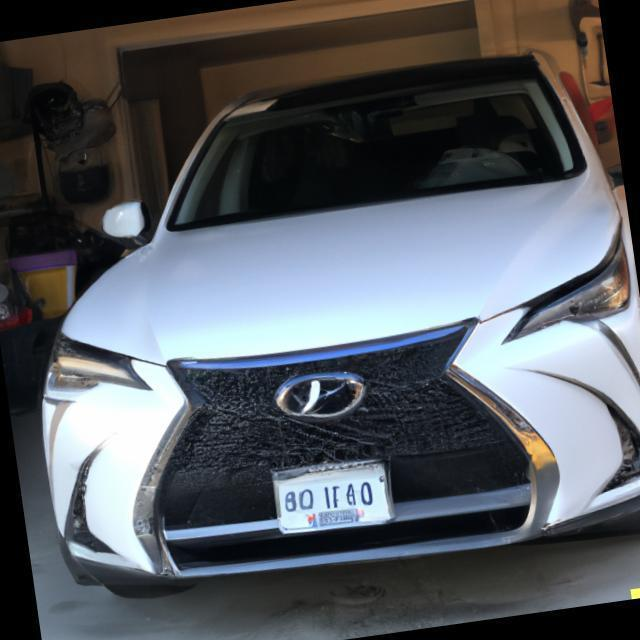License Plate: (273, 460, 396, 535)
